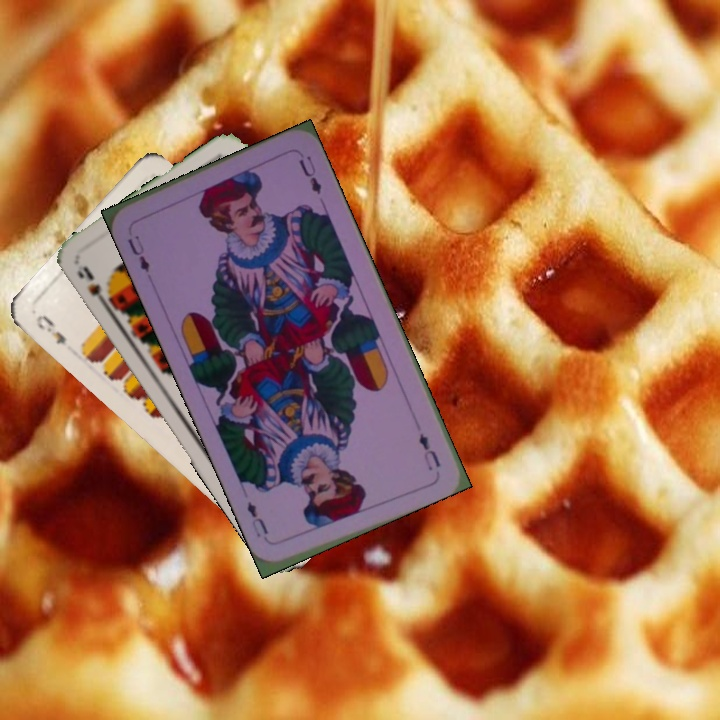E9: (31, 311, 69, 347)
EU: (123, 231, 153, 275), (414, 429, 443, 473)
S9: (72, 262, 117, 312)
